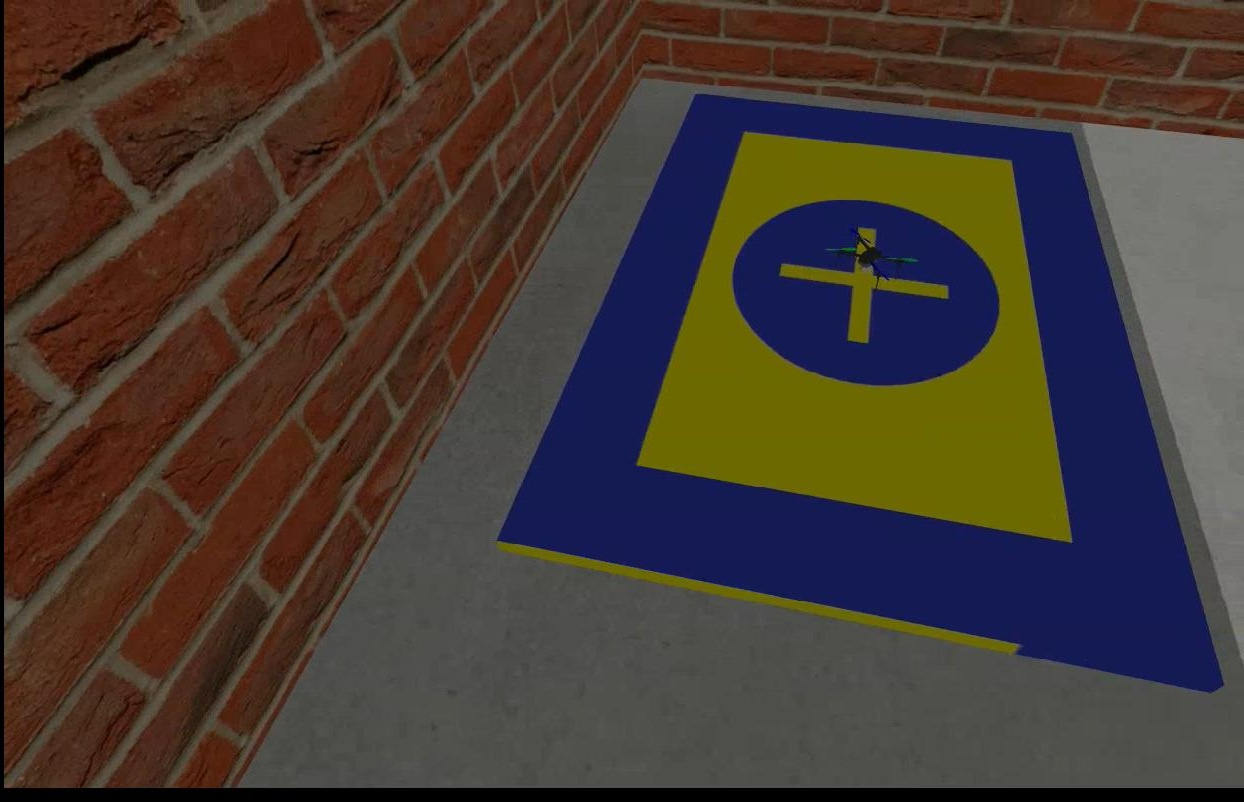large_base: (494, 92, 1230, 686)
